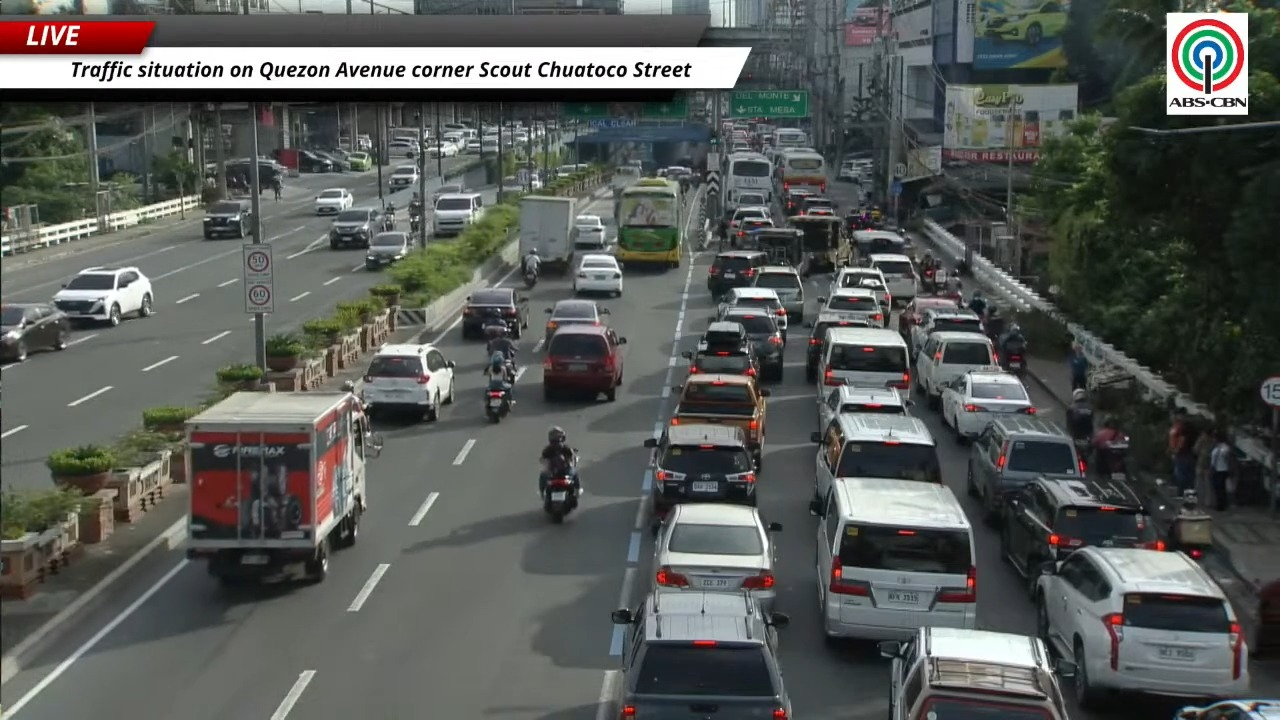bus: (616, 178, 684, 268), (724, 153, 773, 208), (777, 151, 826, 194)
car: (1036, 547, 1248, 709), (609, 587, 792, 719), (1001, 475, 1165, 589), (879, 627, 1074, 719), (653, 502, 781, 611), (966, 414, 1085, 523), (810, 413, 941, 498), (668, 374, 769, 471), (361, 344, 455, 421), (940, 370, 1036, 441), (543, 324, 626, 401), (916, 331, 998, 408), (52, 266, 153, 326), (712, 308, 784, 381), (805, 311, 870, 382), (0, 302, 70, 361), (981, 0, 1068, 46), (817, 385, 910, 428), (717, 286, 787, 340), (906, 307, 984, 353), (460, 287, 528, 339), (545, 300, 609, 344), (898, 296, 957, 343), (818, 287, 887, 327), (682, 342, 759, 376), (828, 266, 891, 306), (329, 208, 390, 249), (869, 253, 917, 303), (432, 192, 484, 235), (1174, 698, 1279, 719), (573, 253, 623, 296), (202, 200, 251, 239), (365, 231, 413, 269), (699, 322, 748, 349), (730, 218, 775, 246), (728, 205, 770, 234), (858, 277, 891, 312), (574, 214, 606, 250), (315, 188, 353, 214), (297, 150, 335, 173), (388, 165, 419, 191), (311, 150, 349, 171), (784, 188, 813, 215), (258, 159, 285, 186), (432, 184, 464, 204), (802, 195, 836, 213), (387, 140, 419, 158), (426, 140, 459, 157), (837, 161, 861, 182), (347, 151, 372, 170), (735, 191, 767, 205), (502, 175, 525, 193), (803, 206, 835, 216), (465, 139, 481, 154)
motorcycle: (1145, 479, 1212, 560), (1148, 480, 1212, 560), (543, 472, 578, 523), (999, 343, 1025, 376), (486, 389, 510, 423), (1005, 353, 1025, 376), (920, 268, 936, 294), (523, 268, 538, 288), (410, 215, 422, 234)
truck: (185, 391, 381, 584), (518, 195, 576, 274)
